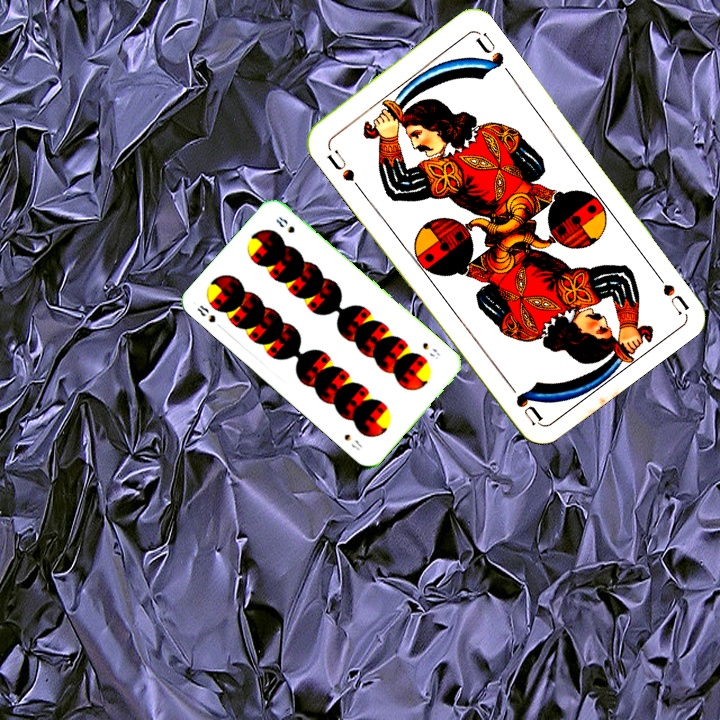S8: (193, 301, 226, 332), (418, 338, 443, 362)
SU: (646, 262, 691, 316), (323, 141, 364, 193)
